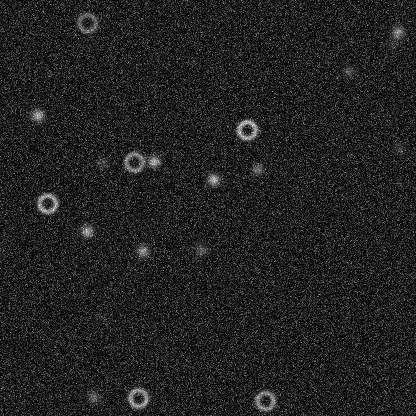Ring: (234, 117, 258, 141), (35, 191, 59, 215), (253, 388, 277, 412), (126, 386, 150, 410), (75, 10, 99, 34), (122, 149, 146, 173)
Spot: (85, 389, 101, 405), (78, 223, 94, 239), (205, 171, 221, 187), (383, 36, 399, 52), (29, 107, 45, 123), (192, 241, 208, 257), (93, 309, 109, 325), (145, 153, 161, 169), (390, 141, 406, 157), (134, 243, 150, 259), (340, 62, 356, 78), (94, 154, 110, 170), (249, 161, 265, 177), (389, 24, 405, 40)
